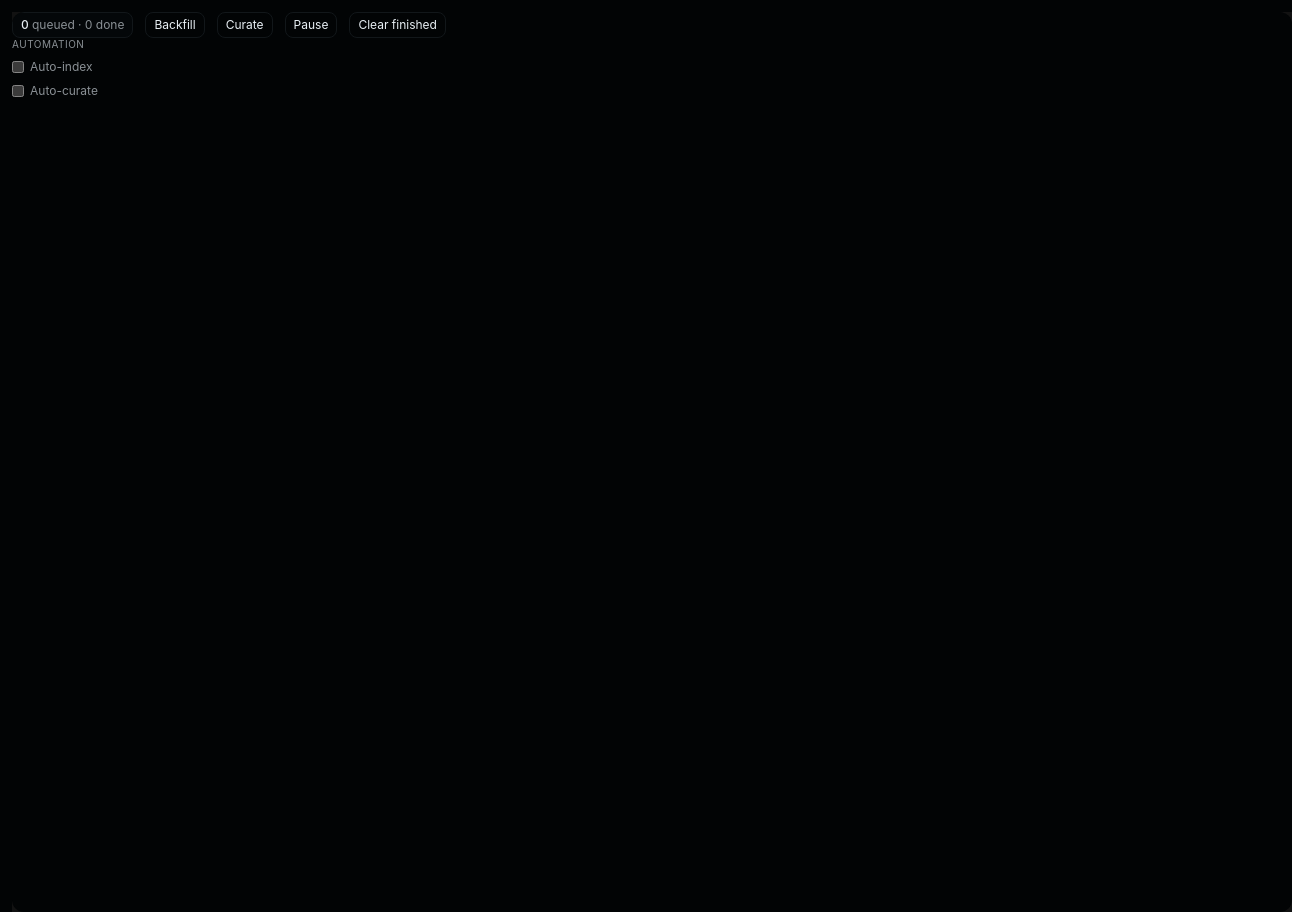
BrainQueuePanel controls › re-reads settings after an action rather than only at mount
Expected: the button "Pause" is shown, [285,12,337,38]
What coordinates should you click on to do the following:
click the button "Clear finished"
I would click on:
 (398, 25)
Its box is [349,12,446,38].
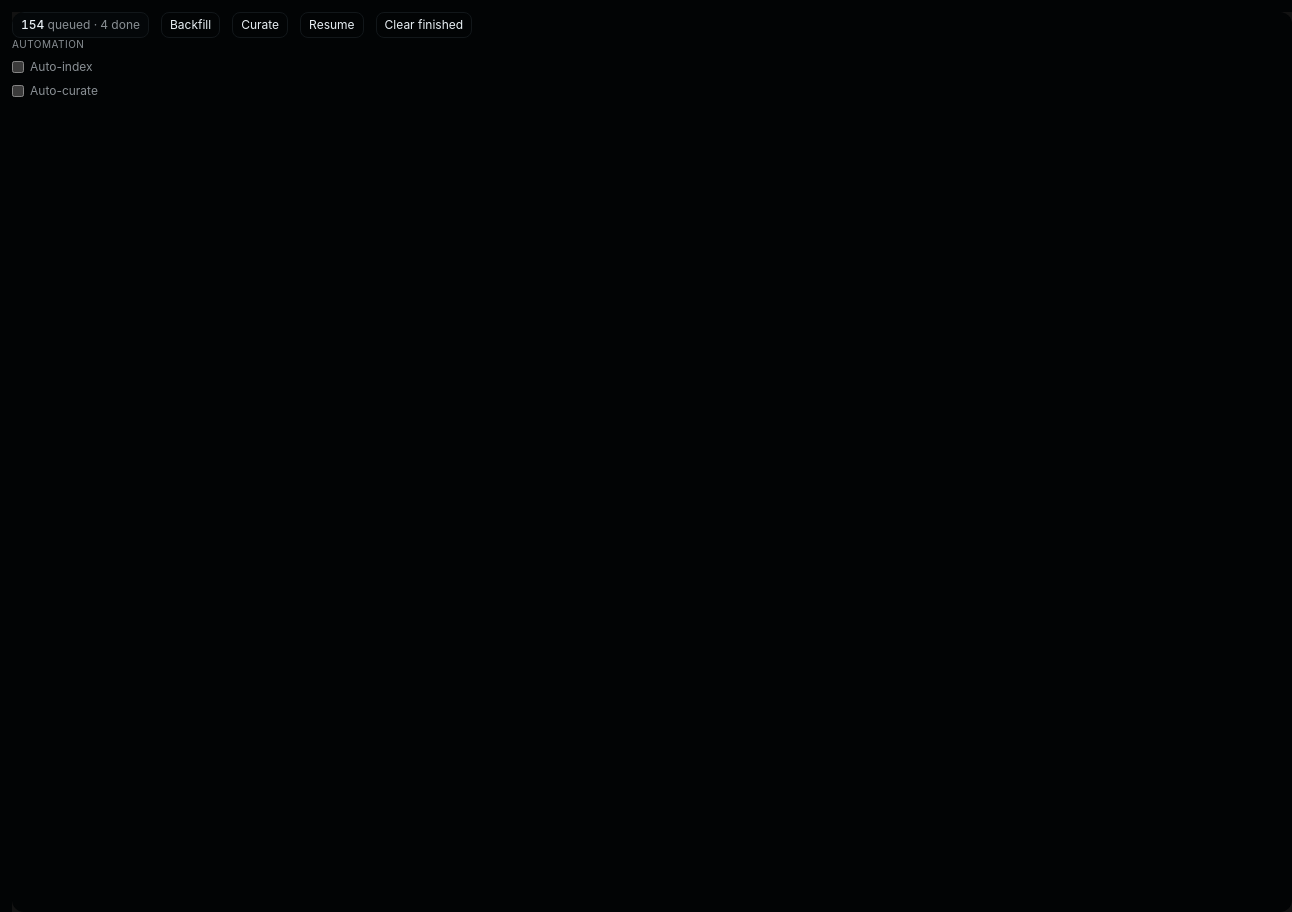
Result: the button "Resume" is shown at [300,12,364,38]
